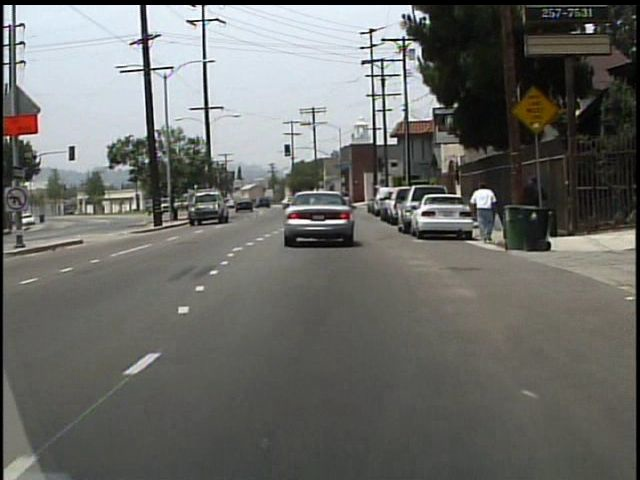person: (468, 182, 497, 247)
